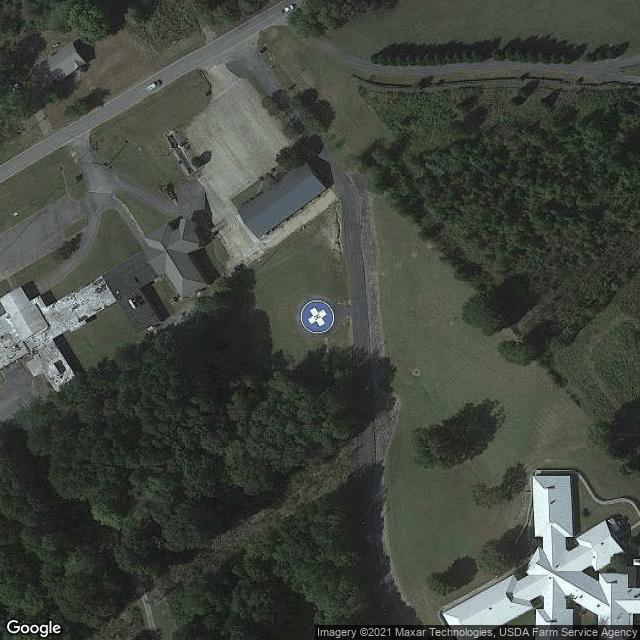Helipad: (298, 296, 335, 333)
